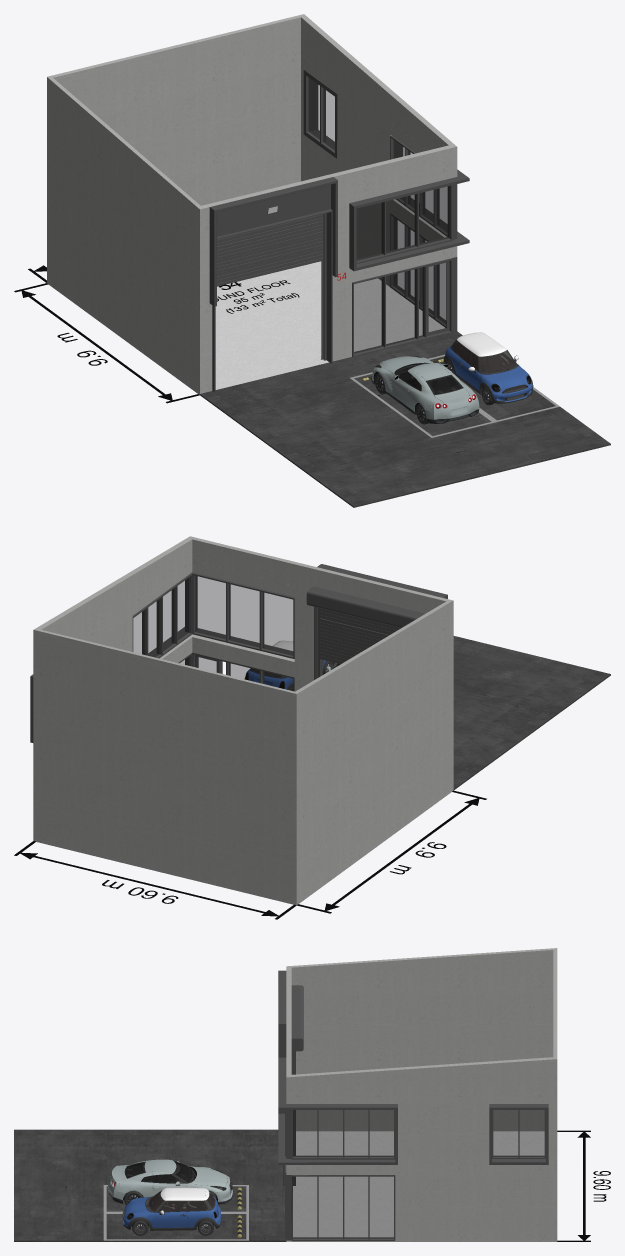
File: Without_Mezzanine.glb
The picture shows the model from 3 angles, top to bottom: view 1: azimuth 30°, elevation 25°; view 2: azimuth 150°, elevation 25°; view 3: azimuth 270°, elevation 25°; orthographic projection. The views are drawn at different scales.
Parts seen in each view (by area): view 1: Box2131647111, Object1746170056, Object1746170057, Shape382, Box2131647102, Shape383, Segment 006, AM132_033_39.002, AM132_041_25.002, Component#120 [25525]106, Component#121 [25528]106, Rectangle2133403701 (+4 smaller); view 2: Object1746170056, Object1746170057, Shape382, Box2131647111, Box2131647102, Segment 006, Rectangle2133403705, Object1746170048, Rectangle2133403704, DIM_Line_013, AM132_041_25.002, DIM_Line_014 (+1 smaller); view 3: Object1746170057, Shape382, Box2131647111, Box2131647102, Shape383, AM132_041_25.002, AM132_033_39.002, Rectangle2133403701, Rectangle2133403705, Rectangle2133403704, Object1746170048, Component#121 [25528]106 (+3 smaller).
Part boxes in pixels (bbox=[...]): Box2131647111: bbox=[200, 331, 610, 507]; Object1746170056: bbox=[47, 15, 300, 284]; Object1746170057: bbox=[49, 78, 200, 392]; Shape382: bbox=[197, 14, 457, 394]; Box2131647102: bbox=[349, 135, 469, 357]; Shape383: bbox=[215, 261, 444, 389]; Segment 006: bbox=[217, 214, 323, 286]; AM132_033_39.002: bbox=[371, 356, 479, 424]; AM132_041_25.002: bbox=[443, 332, 533, 405]; Component#120 [25525]106: bbox=[217, 184, 330, 236]; Component#121 [25528]106: bbox=[209, 177, 337, 306]; Rectangle2133403701: bbox=[303, 70, 337, 158]; Object1746170056: bbox=[38, 629, 298, 905]; Object1746170057: bbox=[295, 601, 450, 903]; Shape382: bbox=[33, 536, 453, 842]; Box2131647111: bbox=[333, 636, 610, 790]; Box2131647102: bbox=[132, 572, 294, 691]; Segment 006: bbox=[320, 608, 400, 663]; Rectangle2133403705: bbox=[159, 634, 294, 677]; Object1746170048: bbox=[306, 586, 424, 627]; Rectangle2133403704: bbox=[132, 561, 294, 615]; DIM_Line_013: bbox=[14, 841, 296, 919]; AM132_041_25.002: bbox=[244, 640, 334, 690]; DIM_Line_014: bbox=[297, 790, 486, 913]; Object1746170057: bbox=[291, 948, 553, 1131]; Shape382: bbox=[286, 966, 557, 1241]; Box2131647111: bbox=[14, 1129, 286, 1241]; Box2131647102: bbox=[278, 1057, 397, 1241]; Shape383: bbox=[286, 1131, 544, 1241]; AM132_041_25.002: bbox=[122, 1187, 221, 1235]; AM132_033_39.002: bbox=[108, 1159, 232, 1204]; Rectangle2133403701: bbox=[489, 1104, 548, 1164]; Rectangle2133403705: bbox=[286, 1165, 395, 1174]; Rectangle2133403704: bbox=[286, 1095, 395, 1103]; Object1746170048: bbox=[291, 985, 303, 1051]; Component#121 [25528]106: bbox=[278, 970, 286, 1057].
Bounding box in the file's own units: 12.03 × 7.5 × 22.19.
56 materials, 7 textured.
